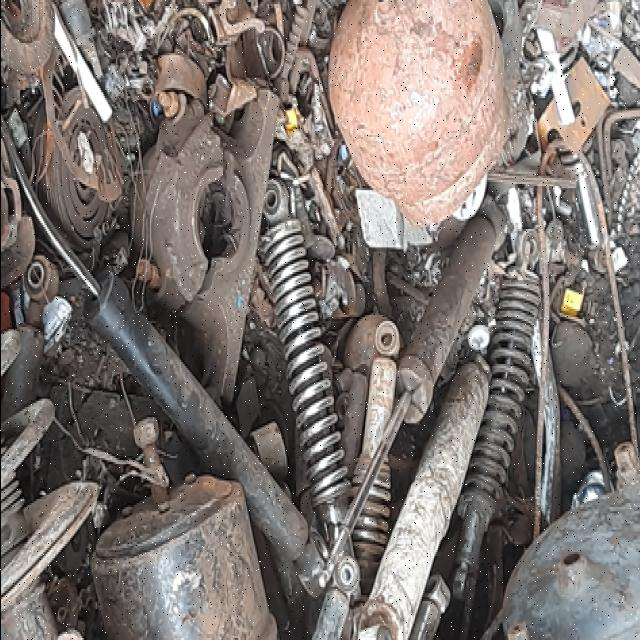shock absorber: (1, 114, 328, 601), (317, 195, 505, 587), (451, 228, 540, 601), (258, 179, 350, 525)
